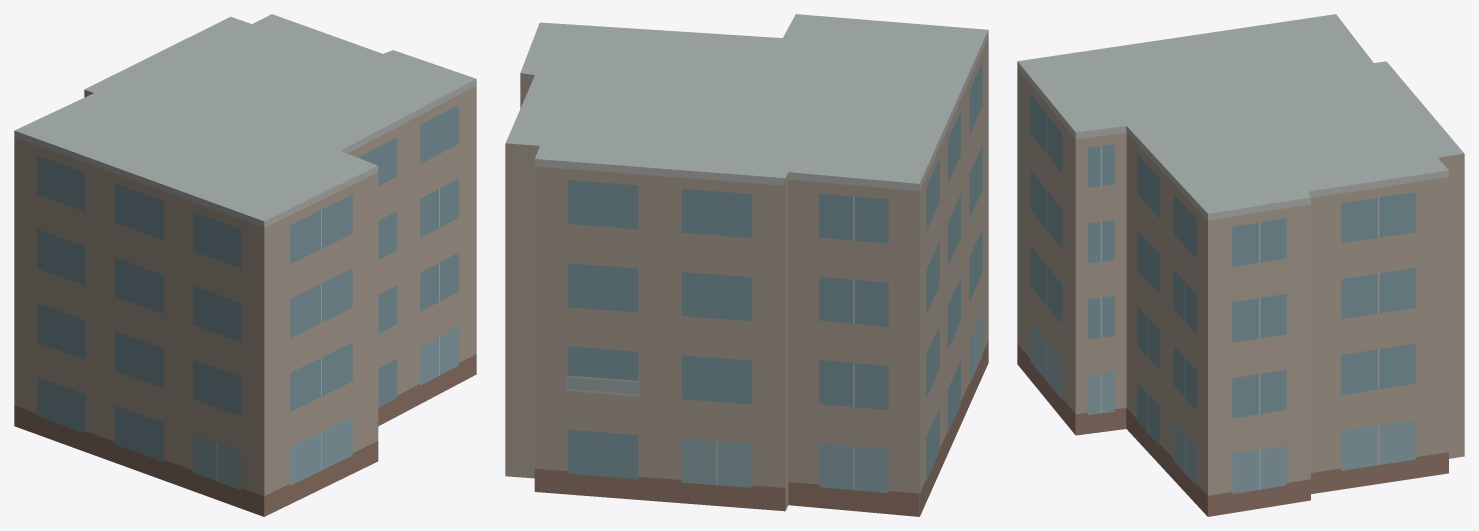
The model's file is survey-upis-32862012.glb.
The picture shows the model from 3 angles, left to right: view 1: azimuth 30°, elevation 25°; view 2: azimuth 150°, elevation 25°; view 3: azimuth 270°, elevation 25°; orthographic projection. The views are drawn at different scales.
Visible parts, largest first — view 1: survey-upis-32862012.tmp; view 2: survey-upis-32862012.tmp; view 3: survey-upis-32862012.tmp.
Boxes of the visible parts, bbox=[...] form: survey-upis-32862012.tmp: bbox=[14, 14, 476, 516]; survey-upis-32862012.tmp: bbox=[505, 14, 988, 516]; survey-upis-32862012.tmp: bbox=[1017, 14, 1464, 516].
Bounding box in the file's own units: 15.44 × 10.9 × 14.59.
